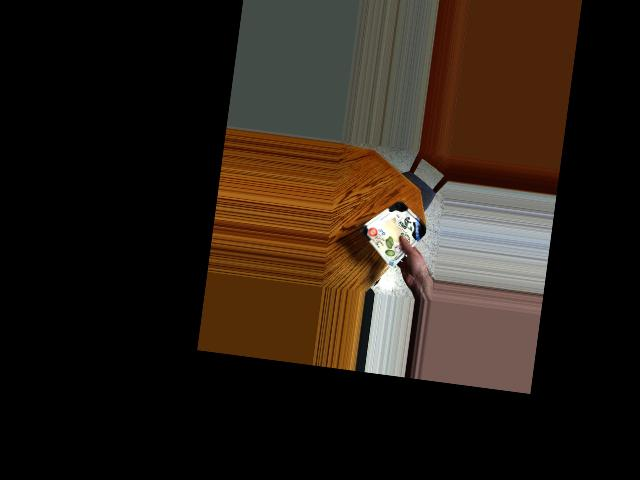cheese: (364, 205, 425, 251)
